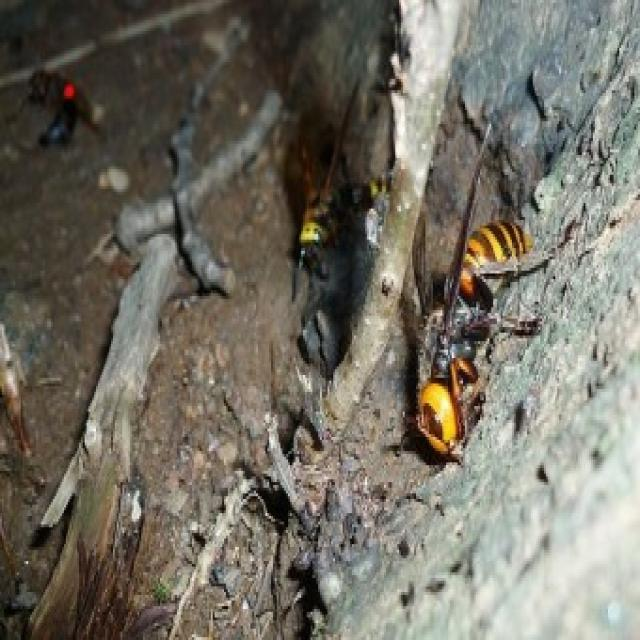Wasp: (410, 209, 545, 463)
